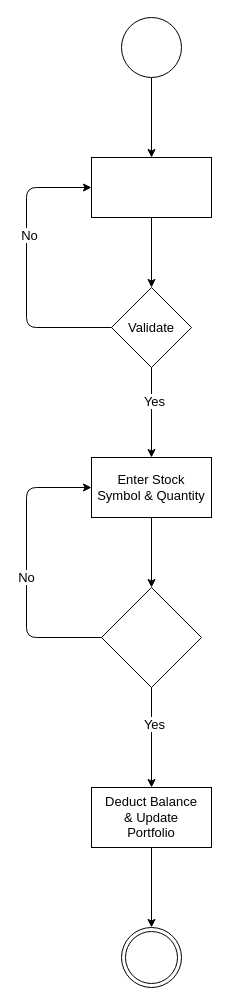
Image size: 229x1005. Some labels were removed from this diagram. Here are the shapes that lost their labels. From the top down, the centre of each, then its label:
[151,187]: Login
[151,637]: Validate Symbol & Balance
